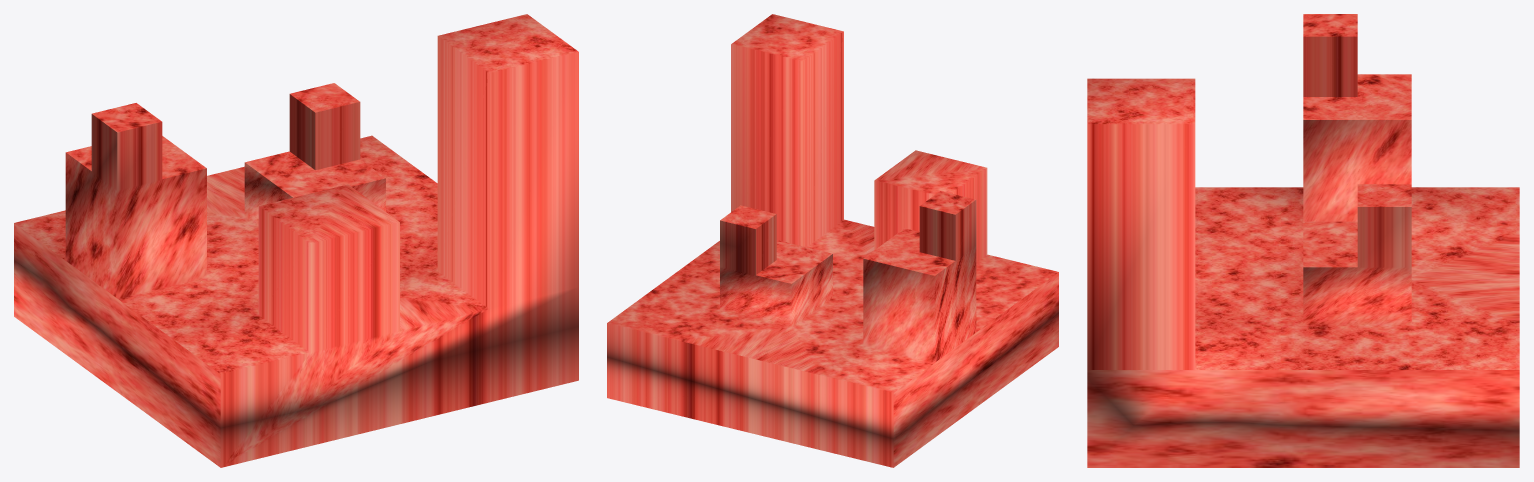
File: black.fbx
The picture shows the model from 3 angles, left to right: view 1: azimuth 30°, elevation 25°; view 2: azimuth 150°, elevation 25°; view 3: azimuth 270°, elevation 25°; orthographic projection. The views are drawn at different scales.
Parts seen in each view (by area): view 1: pCube1; view 2: pCube1; view 3: pCube1.
Part boxes in pixels (box(x1,y1,x2,y2)): pCube1: box(14, 14, 578, 467); pCube1: box(607, 14, 1058, 467); pCube1: box(1087, 14, 1519, 467).
Size of the model in its own units: 2 by 1.75 by 2.
Materials: 1 (1 with a texture image).
